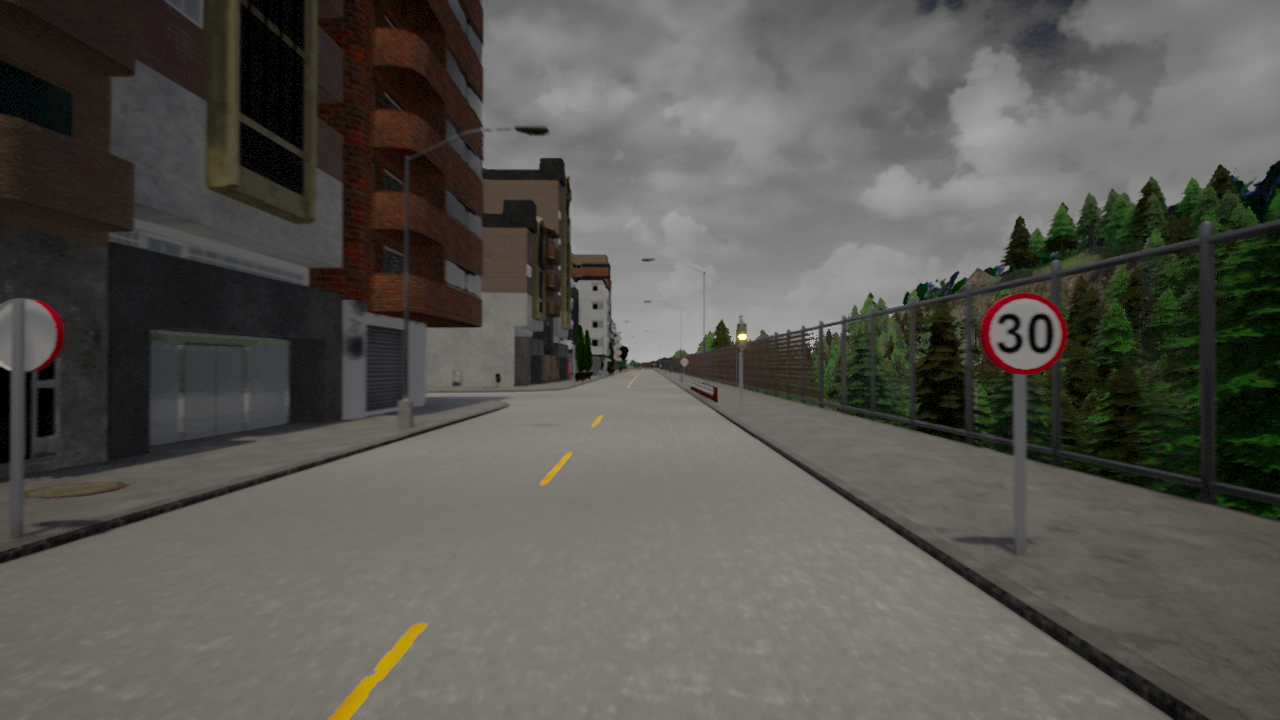yellow: (736, 322, 749, 352)
